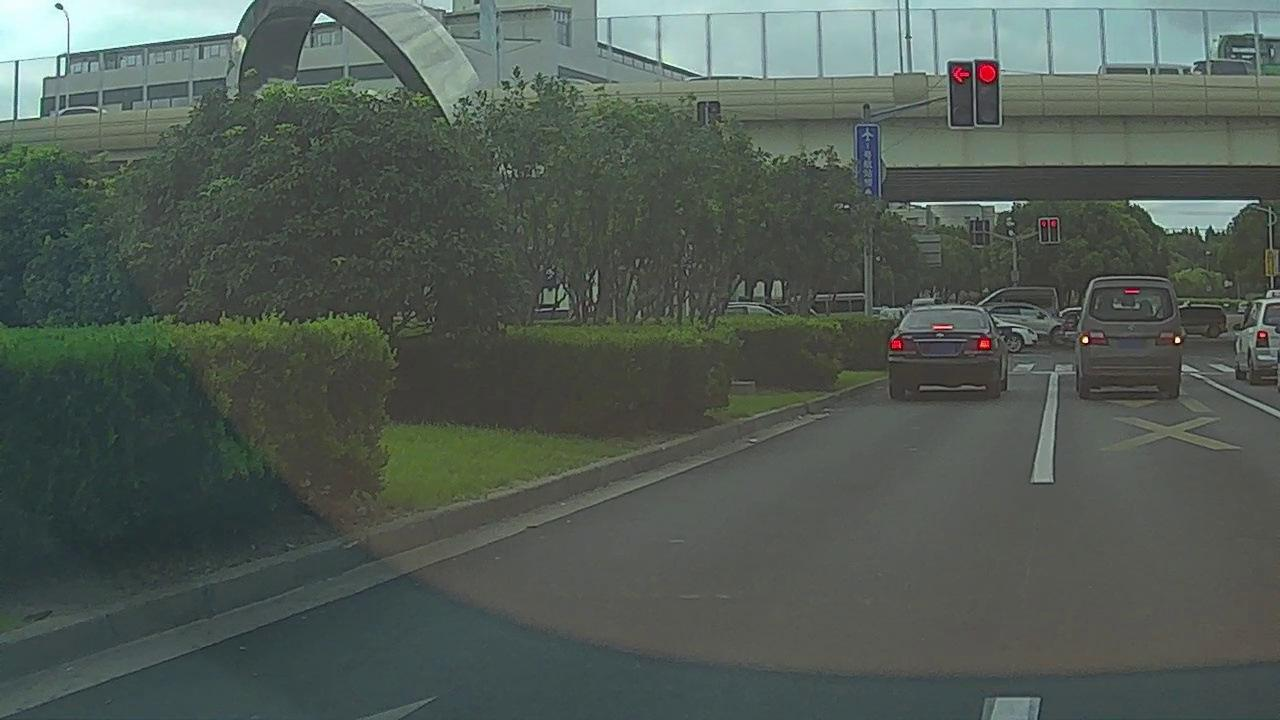traffic_light: (974, 57, 998, 126), (949, 61, 973, 127), (1038, 219, 1048, 244), (1050, 217, 1059, 244)
